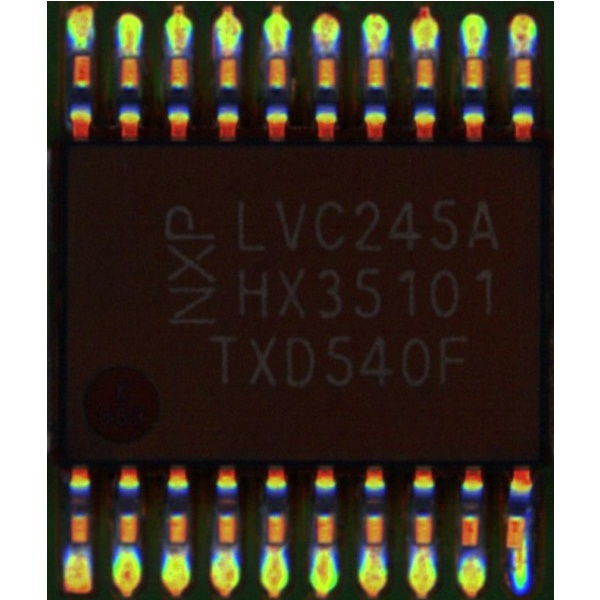Bad_podu: (514, 536, 526, 558)
